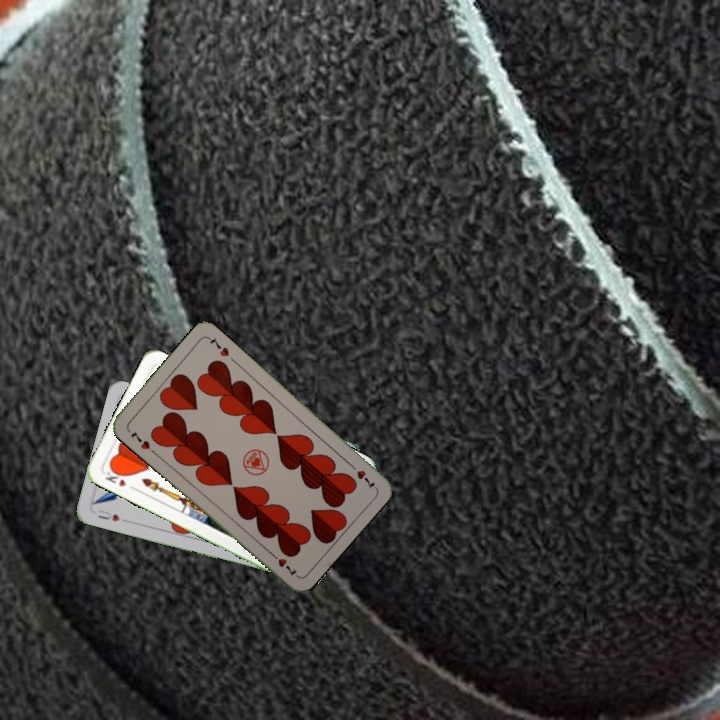H7: (345, 459, 378, 491), (127, 427, 153, 452)
HK: (101, 465, 129, 489)
HU: (94, 506, 122, 524)
